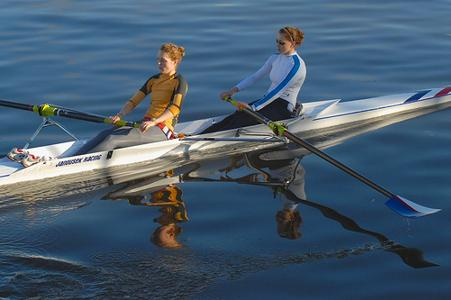person: (201, 27, 307, 137)
